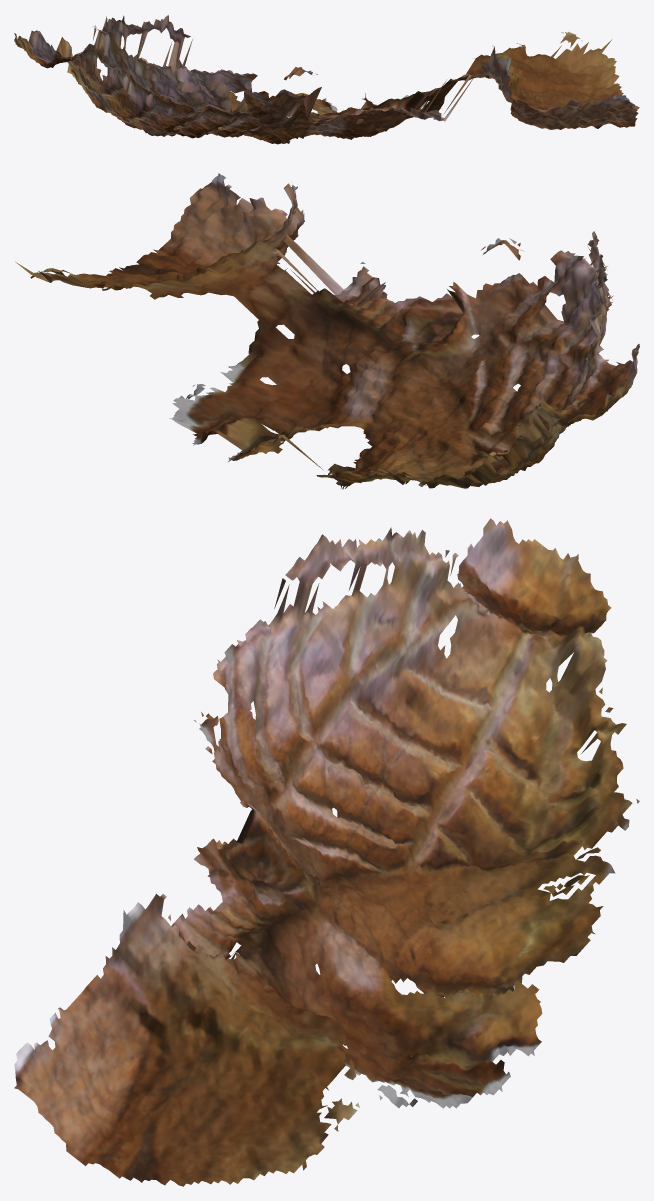
Rendered from input2.obj.
The picture shows the model from 3 angles, top to bottom: view 1: azimuth 30°, elevation 25°; view 2: azimuth 150°, elevation 25°; view 3: azimuth 270°, elevation 25°; orthographic projection. The views are drawn at different scales.
Size of the model in its own units: 299 by 104 by 172.
1 material, 1 textured.
